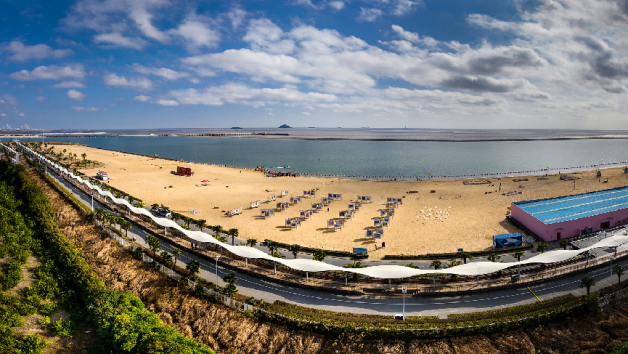sky_cloud: (0, 6, 628, 116)
